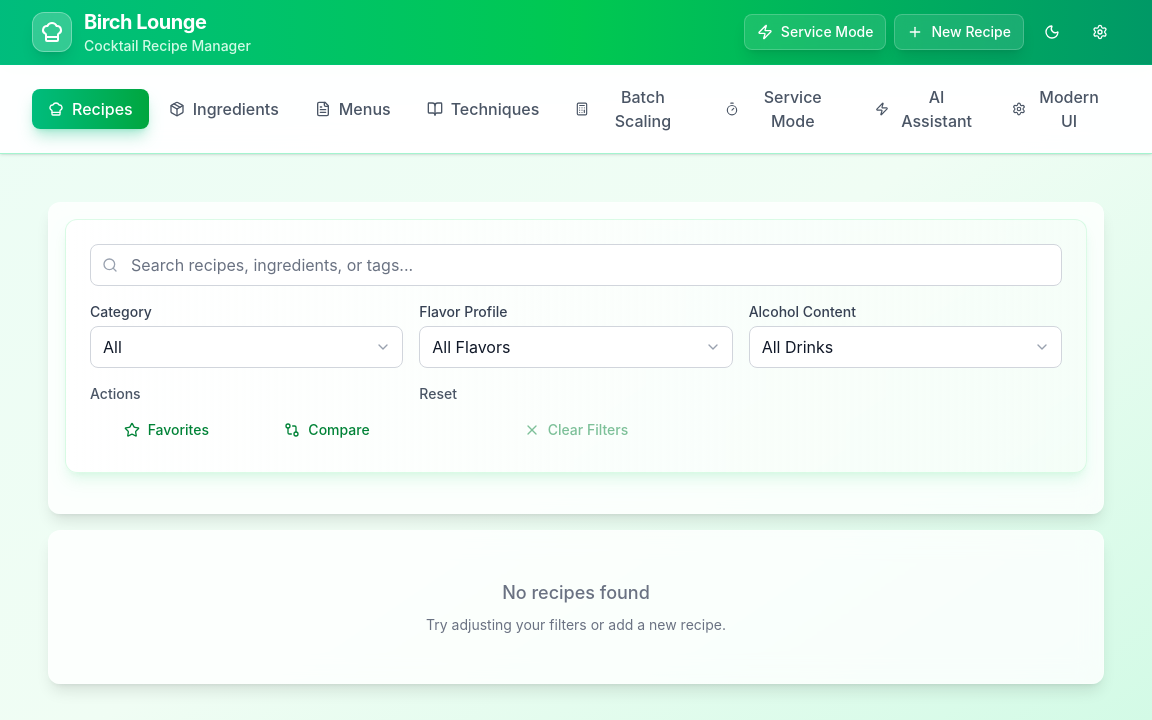
Test case: MainApp UI interactions › opens the settings and recipe modals from quick actions
Click the button named "open settings" at (1100,32), box [1080, 14, 1120, 50]
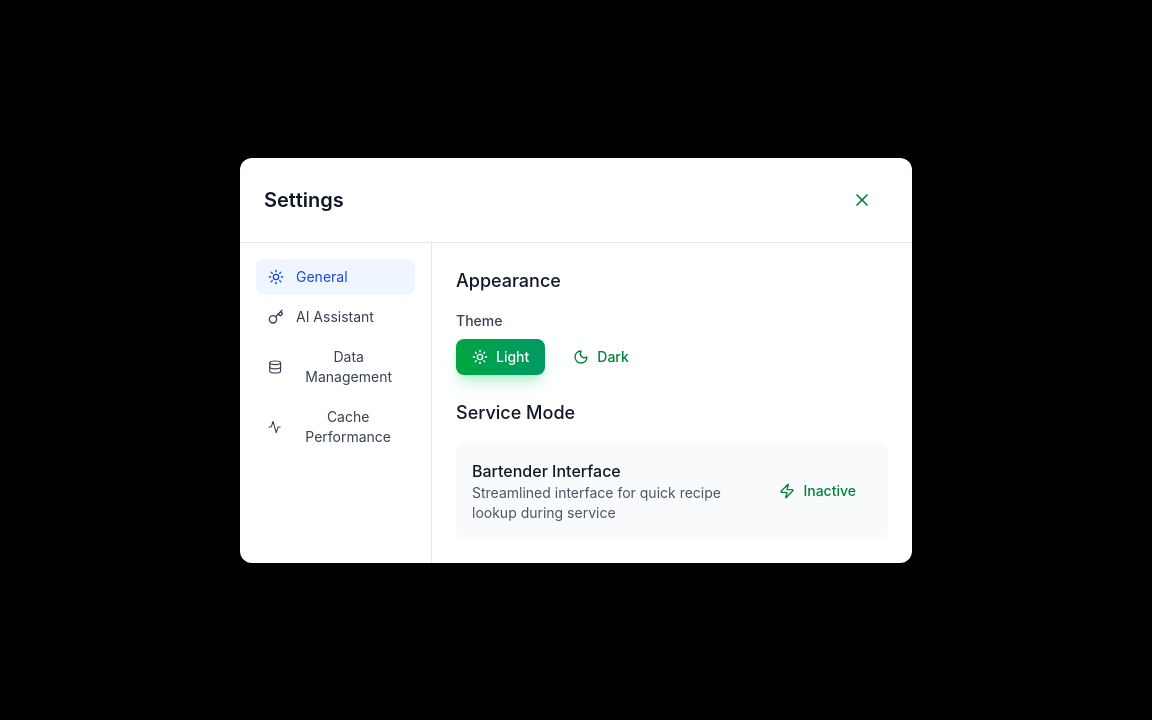
Check: the heading "Settings" is shown, box [264, 186, 344, 214]
Click the button named "close settings" at (862,200), box [836, 182, 888, 218]
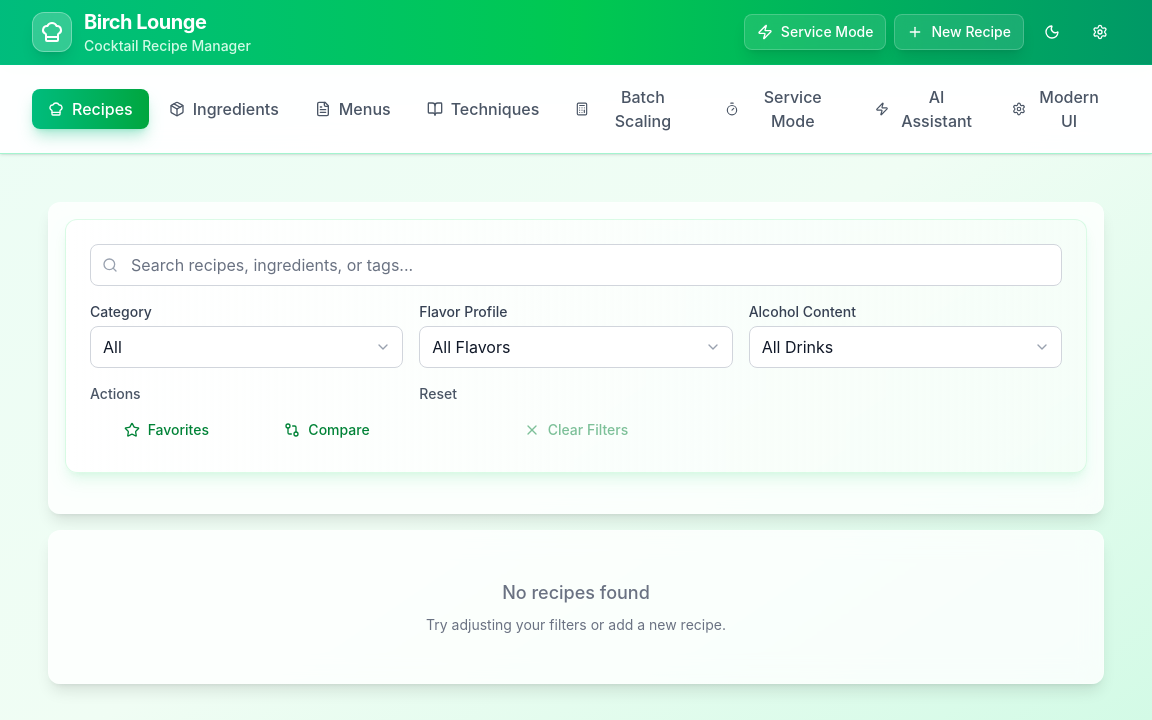
Check: the heading "Settings" is gone
Click the button "New Recipe" at (959,32), box [894, 14, 1024, 50]
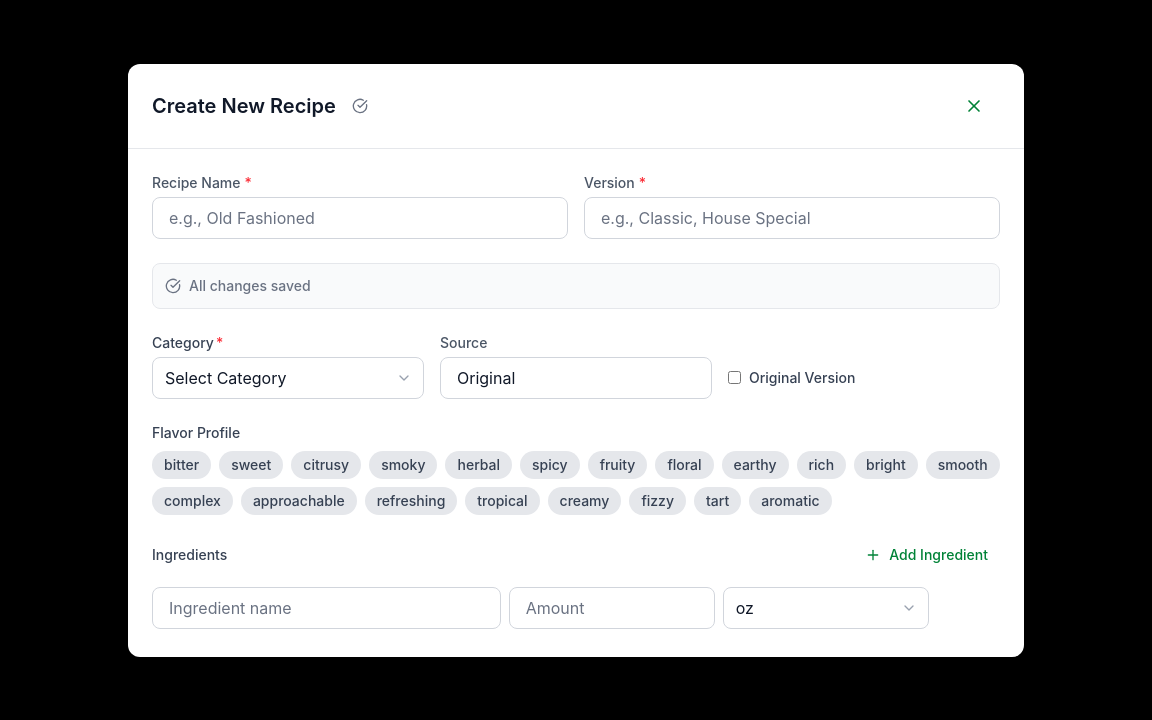
Check: the heading "Create New Recipe" is shown, box [152, 92, 336, 120]
